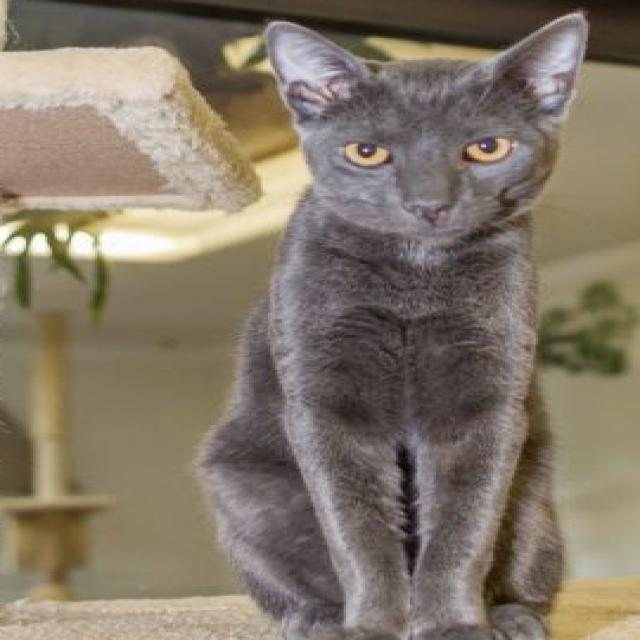Russian Blue: (192, 9, 595, 640)
